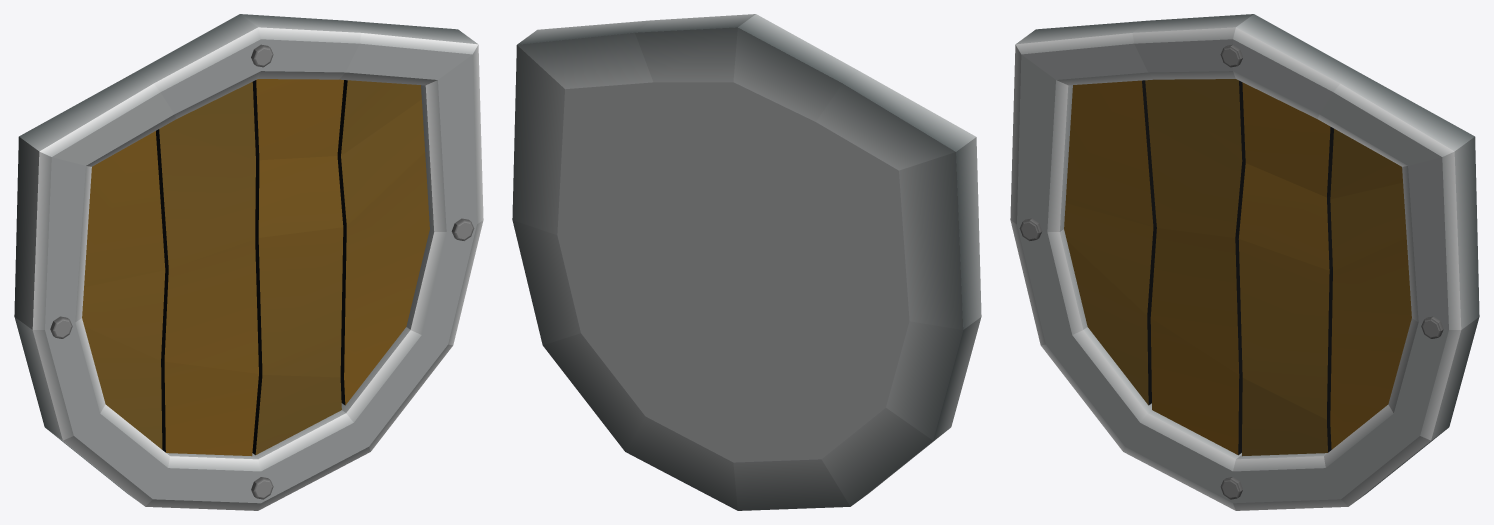
Rendered from shield_6.glb.
3 views of the same model, side by side, from view 1: azimuth 30°, elevation 25°; view 2: azimuth 150°, elevation 25°; view 3: azimuth 330°, elevation 25° (orthographic).
Visible parts, largest first — view 1: shield_6; view 2: shield_6; view 3: shield_6.
Part boxes in pixels (<box>): shield_6: <box>14,14,483,510</box>; shield_6: <box>512,14,981,510</box>; shield_6: <box>1010,14,1479,510</box>.
Size of the model in its own units: 0.5055 by 0.5182 by 0.0579.
Materials: 1 (1 with a texture image).
